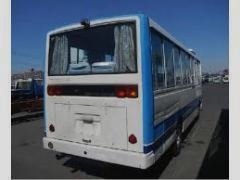bus: (41, 15, 204, 175)
